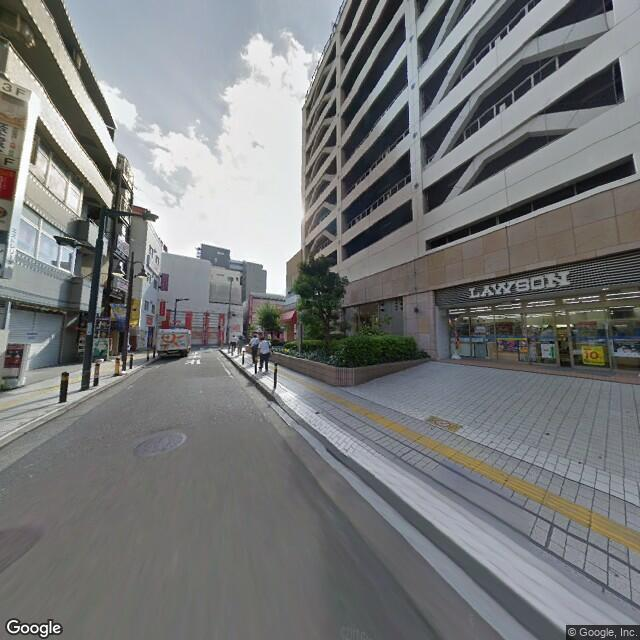lawson: (462, 262, 580, 305)
